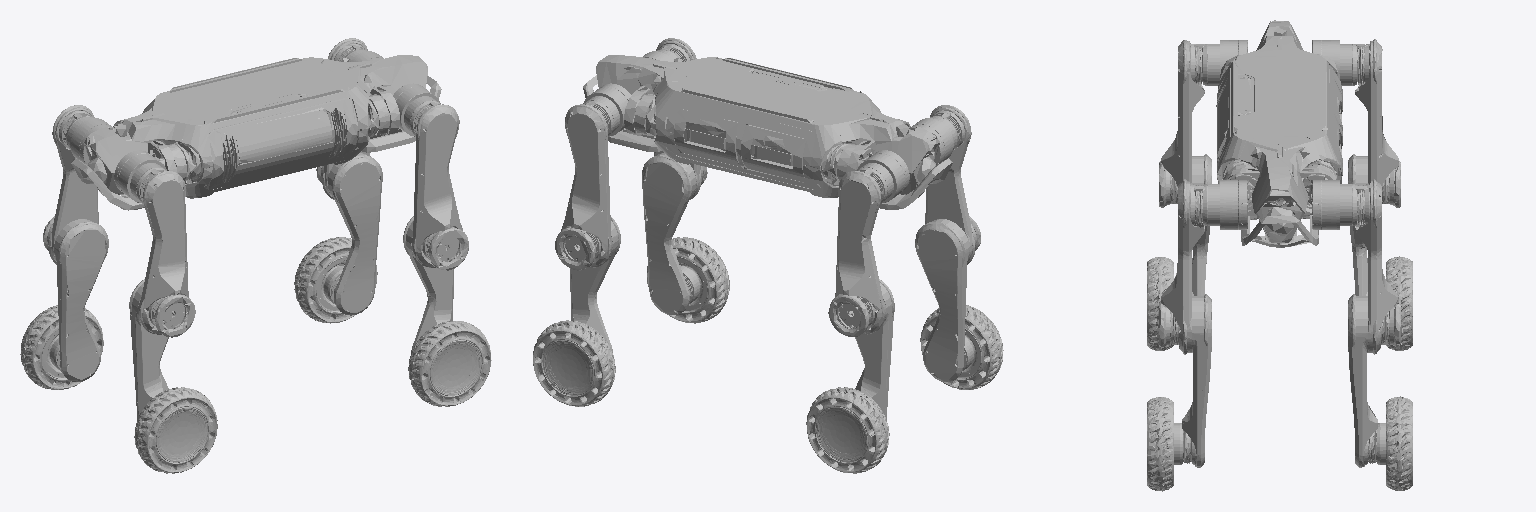
The robot description file, URDF, robot "M20":
<?xml version="1.0" encoding="utf-8"?>
<!-- This URDF was automatically created by SolidWorks to URDF Exporter! Originally created by [author] ([email redacted]) 
     Commit Version: 1.6.0-4-g7f85cfe  Build Version: 1.6.7995.38578
     For more information, please see http://wiki.ros.org/sw_urdf_exporter -->
<robot name="M20">
    <mujoco>
        <compiler meshdir="../meshes/" balanceinertia="false" discardvisual="false"/>
    </mujoco>
    <link name="base_link">
        <inertial>
            <origin xyz="0.00355105878308153 0.0016507579200937 -0.00346462146571654" rpy="0 0 0"/>
            <mass value="15.882"/>
            <inertia ixx="0.0880787" ixy="0.001396" ixz="0.000111" iyy="0.533816" iyz="0.000519" izz="0.563915"/>
        </inertial>
        <visual>
            <origin xyz="0 0 0" rpy="0 0 0"/>
            <geometry>
                <mesh filename="../meshes/base_link.STL"/>
            </geometry>
            <material name="">
                <color rgba="0.752941176470588 0.752941176470588 0.752941176470588 1"/>
            </material>
        </visual>
        <collision>
            <origin xyz="0 0 0" rpy="0 0 0"/>
            <geometry>
                <box size="0.75 0.09 0.14"/>
            </geometry>
        </collision>
        <collision>
            <origin xyz="0 0.045 0" rpy="0 1.57079632 0"/>
            <geometry>
                <cylinder length="0.75" radius="0.07"/>
            </geometry>
        </collision>
        <collision>
            <origin xyz="0 -0.045 0" rpy="0 1.57079632 0"/>
            <geometry>
                <cylinder length="0.75" radius="0.07"/>
            </geometry>
        </collision>
    </link>
    <link name="fl_hipx">
        <inertial>
            <origin xyz="-0.0111893129496933 0.00891693461032669 0.000405665689861192" rpy="0 0 0"/>
            <mass value="0.261359958476582"/>
            <inertia ixx="0.000186" ixy="0.000025" ixz="-0.000012" iyy="0.000371" iyz="-0.000008" izz="0.000288"/>
        </inertial>
        <visual>
            <origin xyz="0 0 0" rpy="0 0 0"/>
            <geometry>
                <mesh filename="../meshes/fl_hipx.STL"/>
            </geometry>
            <material name="">
                <color rgba="0.752941176470588 0.752941176470588 0.752941176470588 1"/>
            </material>
        </visual>
        <collision>
            <origin xyz="0 0.055 0" rpy="1.57079632 0 0"/>
            <geometry>
                <cylinder length="0.14" radius="0.048"/>
            </geometry>
        </collision>
    </link>
    <joint name="fl_hipx_joint" type="revolute">
        <origin xyz="0.3141 0.0685 0" rpy="0 0 0"/>
        <parent link="base_link"/>
        <child link="fl_hipx"/>
        <axis xyz="-1 0 0"/>
        <limit lower="-0.611" upper="0.436" effort="76.4" velocity="22.4"/>
    </joint>
    <link name="fl_hipy">
        <inertial>
            <origin xyz="-0.00199374763010413 0.0984389609045802 -0.130663565833427" rpy="0 0 0"/>
            <mass value="2.493"/>
            <inertia ixx="0.038859" ixy="-0.000023" ixz="-0.000037" iyy="0.038040" iyz="-0.005985" izz="0.003848"/>
        </inertial>
        <visual>
            <origin xyz="0 0 0" rpy="0 0 0"/>
            <geometry>
                <mesh filename="../meshes/fl_hipy.STL"/>
            </geometry>
            <material name="">
                <color rgba="0.752941176470588 0.752941176470588 0.752941176470588 1"/>
            </material>
        </visual>
        <collision>
            <origin xyz="-0.01 0.11 -0.125" rpy="0 0 0"/>
            <geometry>
                <box size="0.07 0.02 0.25"/>
            </geometry>
        </collision>
        <collision>
            <origin xyz="0 0.11 -0.25" rpy="1.57079632 0 0"/>
            <geometry>
                <cylinder length="0.09" radius="0.05"/>
            </geometry>
        </collision>
    </link>
    <joint name="fl_hipy_joint" type="revolute">
        <origin xyz="0 0 0" rpy="0 0 0"/>
        <parent link="fl_hipx"/>
        <child link="fl_hipy"/>
        <axis xyz="0 -1 0"/>
        <limit lower="-2.583" upper="2.286" effort="76.4" velocity="22.4"/>
    </joint>
    <link name="fl_knee">
        <inertial>
            <origin xyz="0.00341916513259743 0.0026912421076368 -0.181265498605881" rpy="0 0 0"/>
            <mass value="1.26"/>
            <inertia ixx="0.012936" ixy="-0.000053" ixz="0.000226" iyy="0.013123" iyz="-0.001681" izz="0.001682"/>
        </inertial>
        <visual>
            <origin xyz="0 0 0" rpy="0 0 0"/>
            <geometry>
                <mesh filename="../meshes/fl_knee.STL"/>
            </geometry>
            <material name="">
                <color rgba="0.752941176470588 0.752941176470588 0.752941176470588 1"/>
            </material>
        </visual>
        <collision>
            <origin xyz="0.015 -0.015 -0.125" rpy="0 0 0"/>
            <geometry>
                <box size="0.06 0.025 0.25"/>
            </geometry>
        </collision>
        <collision>
            <origin xyz="0 0.02 -0.25" rpy="1.57079632 0 0"/>
            <geometry>
                <cylinder length="0.1" radius="0.04"/>
            </geometry>
        </collision>
    </link>
    <joint name="fl_knee_joint" type="revolute">
        <origin xyz="0 0.0984 -0.25" rpy="0 0 0"/>
        <parent link="fl_hipy"/>
        <child link="fl_knee"/>
        <axis xyz="0 -1 0"/>
        <limit lower="-2.792" upper="2.809" effort="76.4" velocity="22.4"/>
    </joint>
    <link name="fl_wheel">
        <inertial>
            <origin xyz="-3.11398454355682E-07 0.000279001520740008 5.70329233673394E-07" rpy="0 0 0"/>
            <mass value="0.638"/>
            <inertia ixx="0.001535" ixy="0.0" ixz="0.0" iyy="0.002853" iyz="0.0" izz="0.001535"/>
        </inertial>
        <visual>
            <origin xyz="0 0 0" rpy="0 0 0"/>
            <geometry>
                <mesh filename="../meshes/fl_wheel.STL"/>
            </geometry>
            <material name="">
                <color rgba="0.752941176470588 0.752941176470588 0.752941176470588 1"/>
            </material>
        </visual>
        <collision>
            <origin xyz="0 0 0" rpy="1.57079632 0 0"/>
            <geometry>
                <cylinder length="0.054" radius="0.09"/>
            </geometry>
        </collision>
    </link>
    <joint name="fl_wheel_joint" type="continuous">
        <origin xyz="0 0.059676 -0.25" rpy="0 0 0"/>
        <parent link="fl_knee"/>
        <child link="fl_wheel"/>
        <axis xyz="0 -1 0"/>
        <limit effort="21.6" velocity="79.3"/>
    </joint>
    <link name="fr_hipx">
        <inertial>
            <origin xyz="-0.0110900940309543 -0.0087503473771439 0.000521421017057358" rpy="0 0 0"/>
            <mass value="0.261359958476582"/>
            <inertia ixx="0.000186" ixy="-0.000026" ixz="-0.000012" iyy="0.000371" iyz="0.000008" izz="0.000288"/>
        </inertial>
        <visual>
            <origin xyz="0 0 0" rpy="0 0 0"/>
            <geometry>
                <mesh filename="../meshes/fr_hipx.STL"/>
            </geometry>
            <material name="">
                <color rgba="0.752941176470588 0.752941176470588 0.752941176470588 1"/>
            </material>
        </visual>
        <collision>
            <origin xyz="0 -0.055 0" rpy="1.57079632 0 0"/>
            <geometry>
                <cylinder length="0.14" radius="0.048"/>
            </geometry>
        </collision>
    </link>
    <joint name="fr_hipx_joint" type="revolute">
        <origin xyz="0.3141 -0.0685 0" rpy="0 0 0"/>
        <parent link="base_link"/>
        <child link="fr_hipx"/>
        <axis xyz="-1 0 0"/>
        <limit lower="-0.436" upper="0.611" effort="76.4" velocity="22.4"/>
    </joint>
    <link name="fr_hipy">
        <inertial>
            <origin xyz="-0.00229991904853988 -0.0989709441053532 -0.130925037640537" rpy="0 0 0"/>
            <mass value="2.493"/>
            <inertia ixx="0.039277" ixy="0.000005" ixz="-0.000063" iyy="0.038485" iyz="0.005970" izz="0.003921"/>
        </inertial>
        <visual>
            <origin xyz="0 0 0" rpy="0 0 0"/>
            <geometry>
                <mesh filename="../meshes/fr_hipy.STL"/>
            </geometry>
            <material name="">
                <color rgba="0.752941176470588 0.752941176470588 0.752941176470588 1"/>
            </material>
        </visual>
        <collision>
            <origin xyz="-0.01 -0.11 -0.125" rpy="0 0 0"/>
            <geometry>
                <box size="0.07 0.02 0.25"/>
            </geometry>
        </collision>
        <collision>
            <origin xyz="0 -0.11 -0.25" rpy="1.57079632 0 0"/>
            <geometry>
                <cylinder length="0.09" radius="0.05"/>
            </geometry>
        </collision>
    </link>
    <joint name="fr_hipy_joint" type="revolute">
        <origin xyz="0 0 0" rpy="0 0 0"/>
        <parent link="fr_hipx"/>
        <child link="fr_hipy"/>
        <axis xyz="0 -1 0"/>
        <limit lower="-2.583" upper="2.286" effort="76.4" velocity="22.4"/>
    </joint>
    <link name="fr_knee">
        <inertial>
            <origin xyz="0.0035494546955584 -0.002478843181213 -0.180089236444296" rpy="0 0 0"/>
            <mass value="1.26"/>
            <inertia ixx="0.012936" ixy="0.000053" ixz="0.000226" iyy="0.013123" iyz="0.001681" izz="0.001283"/>
        </inertial>
        <visual>
            <origin xyz="0 0 0" rpy="0 0 0"/>
            <geometry>
                <mesh filename="../meshes/fr_knee.STL"/>
            </geometry>
            <material name="">
                <color rgba="0.752941176470588 0.752941176470588 0.752941176470588 1"/>
            </material>
        </visual>
        <collision>
            <origin xyz="0.015 0.015 -0.125" rpy="0 0 0"/>
            <geometry>
                <box size="0.06 0.025 0.25"/>
            </geometry>
        </collision>
        <collision>
            <origin xyz="0 -0.02 -0.25" rpy="1.57079632 0 0"/>
            <geometry>
                <cylinder length="0.1" radius="0.04"/>
            </geometry>
        </collision>
    </link>
    <joint name="fr_knee_joint" type="revolute">
        <origin xyz="0 -0.0984 -0.25" rpy="0 0 0"/>
        <parent link="fr_hipy"/>
        <child link="fr_knee"/>
        <axis xyz="0 -1 0"/>
        <limit lower="-2.792" upper="2.809" effort="76.4" velocity="22.4"/>
    </joint>
    <link name="fr_wheel">
        <inertial>
            <origin xyz="-6.4732687427016E-07 -0.000279012463466427 -4.62420470803693E-08" rpy="0 0 0"/>
            <mass value="0.638"/>
            <inertia ixx="0.001535" ixy="0.0" ixz="0.0" iyy="0.002853" iyz="0.0" izz="0.001535"/>
        </inertial>
        <visual>
            <origin xyz="0 0 0" rpy="0 0 0"/>
            <geometry>
                <mesh filename="../meshes/fr_wheel.STL"/>
            </geometry>
            <material name="">
                <color rgba="0.752941176470588 0.752941176470588 0.752941176470588 1"/>
            </material>
        </visual>
        <collision>
            <origin xyz="0 0 0" rpy="1.57079632 0 0"/>
            <geometry>
                <cylinder length="0.054" radius="0.09"/>
            </geometry>
        </collision>
    </link>
    <joint name="fr_wheel_joint" type="continuous">
        <origin xyz="0 -0.059676 -0.25" rpy="0 0 0"/>
        <parent link="fr_knee"/>
        <child link="fr_wheel"/>
        <axis xyz="0 -1 0"/>
        <limit effort="21.6" velocity="79.3"/>
    </joint>
    <link name="hl_hipx">
        <inertial>
            <origin xyz="0.0110900940233134 0.00875014035040743 0.000524883746291591" rpy="0 0 0"/>
            <mass value="0.261359958476582"/>
            <inertia ixx="0.000186" ixy="-0.000025" ixz="0.000012" iyy="0.000371" iyz="-0.000008" izz="0.000288"/>
        </inertial>
        <visual>
            <origin xyz="0 0 0" rpy="0 0 0"/>
            <geometry>
                <mesh filename="../meshes/hl_hipx.STL"/>
            </geometry>
            <material name="">
                <color rgba="0.752941176470588 0.752941176470588 0.752941176470588 1"/>
            </material>
        </visual>
        <collision>
            <origin xyz="0 0.055 0" rpy="1.57079632 0 0"/>
            <geometry>
                <cylinder length="0.14" radius="0.048"/>
            </geometry>
        </collision>
    </link>
    <joint name="hl_hipx_joint" type="revolute">
        <origin xyz="-0.3141 0.0685 0" rpy="0 0 0"/>
        <parent link="base_link"/>
        <child link="hl_hipx"/>
        <axis xyz="-1 0 0"/>
        <limit lower="-0.611" upper="0.436" effort="76.4" velocity="22.4"/>
    </joint>
    <link name="hl_hipy">
        <inertial>
            <origin xyz="0.00204343366218146 0.0990227473833045 -0.13069726691312" rpy="0 0 0"/>
            <mass value="2.493"/>
            <inertia ixx="0.039361" ixy="0.000029" ixz="0.000009" iyy="0.038554" iyz="-0.006001" izz="0.003914"/>
        </inertial>
        <visual>
            <origin xyz="0 0 0" rpy="0 0 0"/>
            <geometry>
                <mesh filename="../meshes/hl_hipy.STL"/>
            </geometry>
            <material name="">
                <color rgba="0.752941176470588 0.752941176470588 0.752941176470588 1"/>
            </material>
        </visual>
        <collision>
            <origin xyz="0.01 0.11 -0.125" rpy="0 0 0"/>
            <geometry>
                <box size="0.07 0.02 0.25"/>
            </geometry>
        </collision>
        <collision>
            <origin xyz="0 0.11 -0.25" rpy="1.57079632 0 0"/>
            <geometry>
                <cylinder length="0.09" radius="0.05"/>
            </geometry>
        </collision>
    </link>
    <joint name="hl_hipy_joint" type="revolute">
        <origin xyz="0 0 0" rpy="0 0 0"/>
        <parent link="hl_hipx"/>
        <child link="hl_hipy"/>
        <axis xyz="0 -1 0"/>
        <limit lower="-2.286" upper="2.583" effort="76.4" velocity="22.4"/>
    </joint>
    <link name="hl_knee">
        <inertial>
            <origin xyz="-0.00354945209738589 0.00247884637205834 -0.180089257150601" rpy="0 0 0"/>
            <mass value="1.26"/>
            <inertia ixx="0.012936" ixy="0.000053" ixz="-0.000226" iyy="0.013123" iyz="-0.001681" izz="0.001283"/>
        </inertial>
        <visual>
            <origin xyz="0 0 0" rpy="0 0 0"/>
            <geometry>
                <mesh filename="../meshes/hl_knee.STL"/>
            </geometry>
            <material name="">
                <color rgba="0.752941176470588 0.752941176470588 0.752941176470588 1"/>
            </material>
        </visual>
        <collision>
            <origin xyz="-0.015 0.015 -0.125" rpy="0 0 0"/>
            <geometry>
                <box size="0.06 0.025 0.25"/>
            </geometry>
        </collision>
        <collision>
            <origin xyz="0 0.02 -0.25" rpy="1.57079632 0 0"/>
            <geometry>
                <cylinder length="0.1" radius="0.04"/>
            </geometry>
        </collision>
    </link>
    <joint name="hl_knee_joint" type="revolute">
        <origin xyz="0 0.0984 -0.25" rpy="0 0 0"/>
        <parent link="hl_hipy"/>
        <child link="hl_knee"/>
        <axis xyz="0 -1 0"/>
        <limit lower="-2.809" upper="2.792" effort="76.4" velocity="22.4"/>
    </joint>
    <link name="hl_wheel">
        <inertial>
            <origin xyz="-6.07889369508285E-07 0.000279009097070765 2.10489879304276E-07" rpy="0 0 0"/>
            <mass value="0.638"/>
            <inertia ixx="0.001535" ixy="0.0" ixz="0.0" iyy="0.002853" iyz="0.0" izz="0.001535"/>
        </inertial>
        <visual>
            <origin xyz="0 0 0" rpy="0 0 0"/>
            <geometry>
                <mesh filename="../meshes/hl_wheel.STL"/>
            </geometry>
            <material name="">
                <color rgba="0.752941176470588 0.752941176470588 0.752941176470588 1"/>
            </material>
        </visual>
        <collision>
            <origin xyz="0 0 0" rpy="1.57079632 0 0"/>
            <geometry>
                <cylinder length="0.054" radius="0.09"/>
            </geometry>
        </collision>
    </link>
    <joint name="hl_wheel_joint" type="continuous">
        <origin xyz="0 0.059676 -0.25" rpy="0 0 0"/>
        <parent link="hl_knee"/>
        <child link="hl_wheel"/>
        <axis xyz="0 -1 0"/>
        <limit effort="21.6" velocity="79.3"/>
    </joint>
    <link name="hr_hipx">
        <inertial>
            <origin xyz="0.0110901558226165 -0.00875011717083631 0.000524936954718227" rpy="0 0 0"/>
            <mass value="0.261359958476582"/>
            <inertia ixx="0.000186" ixy="0.000025" ixz="0.000012" iyy="0.000371" iyz="0.000008" izz="0.000288"/>
        </inertial>
        <visual>
            <origin xyz="0 0 0" rpy="0 0 0"/>
            <geometry>
                <mesh filename="../meshes/hr_hipx.STL"/>
            </geometry>
            <material name="">
                <color rgba="0.752941176470588 0.752941176470588 0.752941176470588 1"/>
            </material>
        </visual>
        <collision>
            <origin xyz="0 -0.055 0" rpy="1.57079632 0 0"/>
            <geometry>
                <cylinder length="0.14" radius="0.048"/>
            </geometry>
        </collision>
    </link>
    <joint name="hr_hipx_joint" type="revolute">
        <origin xyz="-0.3141 -0.0685 0" rpy="0 0 0"/>
        <parent link="base_link"/>
        <child link="hr_hipx"/>
        <axis xyz="-1 0 0"/>
        <limit lower="-0.436" upper="0.611" effort="76.4" velocity="22.4"/>
    </joint>
    <link name="hr_hipy">
        <inertial>
            <origin xyz="0.00199199678434109 -0.0983704174694303 -0.13056065751366" rpy="0 0 0"/>
            <mass value="2.493"/>
            <inertia ixx="0.038878" ixy="-0.000022" ixz="0.000034" iyy="0.038053" iyz="0.005995" izz="0.003854"/>
        </inertial>
        <visual>
            <origin xyz="0 0 0" rpy="0 0 0"/>
            <geometry>
                <mesh filename="../meshes/hr_hipy.STL"/>
            </geometry>
            <material name="">
                <color rgba="0.752941176470588 0.752941176470588 0.752941176470588 1"/>
            </material>
        </visual>
        <collision>
            <origin xyz="0.01 -0.11 -0.125" rpy="0 0 0"/>
            <geometry>
                <box size="0.07 0.02 0.25"/>
            </geometry>
        </collision>
        <collision>
            <origin xyz="0 -0.11 -0.25" rpy="1.57079632 0 0"/>
            <geometry>
                <cylinder length="0.09" radius="0.05"/>
            </geometry>
        </collision>
    </link>
    <joint name="hr_hipy_joint" type="revolute">
        <origin xyz="0 0 0" rpy="0 0 0"/>
        <parent link="hr_hipx"/>
        <child link="hr_hipy"/>
        <axis xyz="0 -1 0"/>
        <limit lower="-2.286" upper="2.583" effort="76.4" velocity="22.4"/>
    </joint>
    <link name="hr_knee">
        <inertial>
            <origin xyz="-0.00341053036115846 -0.0027020185369851 -0.181287492263963" rpy="0 0 0"/>
            <mass value="1.26"/>
            <inertia ixx="0.012936" ixy="-0.000053" ixz="-0.000226" iyy="0.013123" iyz="0.001681" izz="0.001283"/>
        </inertial>
        <visual>
            <origin xyz="0 0 0" rpy="0 0 0"/>
            <geometry>
                <mesh filename="../meshes/hr_knee.STL"/>
            </geometry>
            <material name="">
                <color rgba="0.752941176470588 0.752941176470588 0.752941176470588 1"/>
            </material>
        </visual>
        <collision>
            <origin xyz="-0.015 0.015 -0.125" rpy="0 0 0"/>
            <geometry>
                <box size="0.06 0.025 0.25"/>
            </geometry>
        </collision>
        <collision>
            <origin xyz="0 -0.02 -0.25" rpy="1.57079632 0 0"/>
            <geometry>
                <cylinder length="0.1" radius="0.04"/>
            </geometry>
        </collision>
    </link>
    <joint name="hr_knee_joint" type="revolute">
        <origin xyz="0 -0.0984 -0.25" rpy="0 0 0"/>
        <parent link="hr_hipy"/>
        <child link="hr_knee"/>
        <axis xyz="0 -1 0"/>
        <limit lower="-2.809" upper="2.792" effort="76.4" velocity="22.4"/>
    </joint>
    <link name="hr_wheel">
        <inertial>
            <origin xyz="6.09746291457824E-07 -0.00027900886004309 2.0131377032051E-07" rpy="0 0 0"/>
            <mass value="0.638"/>
            <inertia ixx="0.001535" ixy="0.0" ixz="0.0" iyy="0.002853" iyz="0.0" izz="0.001535"/>
        </inertial>
        <visual>
            <origin xyz="0 0 0" rpy="0 0 0"/>
            <geometry>
                <mesh filename="../meshes/hr_wheel.STL"/>
            </geometry>
            <material name="">
                <color rgba="0.752941176470588 0.752941176470588 0.752941176470588 1"/>
            </material>
        </visual>
        <collision>
            <origin xyz="0 0 0" rpy="1.57079632 0 0"/>
            <geometry>
                <cylinder length="0.054" radius="0.09"/>
            </geometry>
        </collision>
    </link>
    <joint name="hr_wheel_joint" type="continuous">
        <origin xyz="0 -0.059676 -0.25" rpy="0 0 0"/>
        <parent link="hr_knee"/>
        <child link="hr_wheel"/>
        <axis xyz="0 -1 0"/>
        <limit effort="21.6" velocity="79.3"/>
    </joint>
</robot>

--- What the picture shows (computed from the rendered views, not written in the file) ---
The picture shows the robot from 3 angles, left to right: view 1: azimuth 30°, elevation 25°; view 2: azimuth 150°, elevation 25°; view 3: azimuth 270°, elevation 25°; orthographic projection.
Robot: M20 — 17 links, 16 joints (12 revolute, 4 continuous); root link base_link; default pose: all joints at 0.
Links seen in each view (by area): view 1: base_link, hr_hipy, fr_hipy, hl_knee, fl_knee, hr_wheel, fr_wheel, hl_hipy, fl_wheel, hl_wheel, hr_knee, fr_knee (+1 smaller); view 2: base_link, hl_hipy, fl_hipy, hr_knee, fr_knee, fl_wheel, hl_wheel, hr_hipy, fr_wheel, hr_wheel, hl_knee, fl_knee (+1 smaller); view 3: base_link, fr_hipy, fl_hipy, hl_hipy, hr_hipy, fl_knee, fr_knee, fl_wheel, fr_wheel, hl_wheel, hr_wheel, hl_knee (+3 smaller).
Link boxes in pixels (x1,y1,x2,y2): base_link: [71, 55, 441, 210]; hr_hipy: [119, 154, 195, 337]; fr_hipy: [396, 87, 468, 270]; hl_knee: [50, 219, 108, 381]; fl_knee: [324, 153, 382, 315]; hr_wheel: [134, 387, 217, 473]; fr_wheel: [408, 321, 491, 406]; hl_hipy: [43, 105, 110, 264]; fl_wheel: [294, 237, 377, 323]; hl_wheel: [20, 305, 103, 389]; hr_knee: [129, 279, 168, 419]; fr_knee: [403, 216, 454, 351]; base_link: [583, 55, 952, 209]; hl_hipy: [828, 154, 904, 336]; fl_hipy: [555, 87, 627, 270]; hr_knee: [915, 219, 973, 381]; fr_knee: [642, 153, 699, 314]; fl_wheel: [533, 320, 615, 406]; hl_wheel: [806, 387, 889, 473]; hr_hipy: [913, 105, 980, 264]; fr_wheel: [647, 237, 729, 323]; hr_wheel: [920, 305, 1003, 389]; hl_knee: [855, 279, 894, 419]; fl_knee: [570, 217, 620, 351]; base_link: [1216, 20, 1342, 247]; fr_hipy: [1159, 179, 1237, 354]; fl_hipy: [1322, 179, 1400, 354]; hl_hipy: [1322, 39, 1400, 207]; hr_hipy: [1159, 40, 1237, 207]; fl_knee: [1348, 294, 1385, 467]; fr_knee: [1174, 294, 1211, 467]; fl_wheel: [1386, 396, 1412, 490]; fr_wheel: [1147, 397, 1173, 491]; hl_wheel: [1386, 256, 1412, 350]; hr_wheel: [1147, 257, 1173, 350]; hl_knee: [1348, 154, 1367, 295].
Size in the robot's own frame: 0.8173 by 0.5043 by 0.6753 metres.
Meshes: 17 distinct files referenced, 17 mesh visuals loaded (17 binary STL).